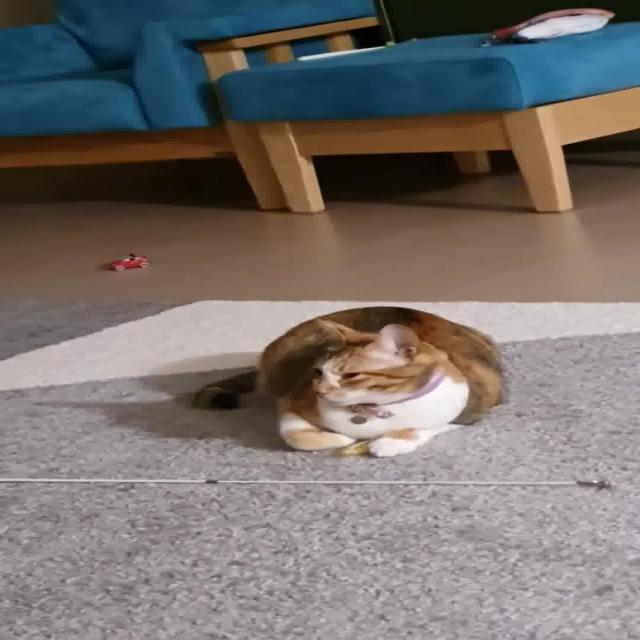cat: (172, 294, 529, 468)
